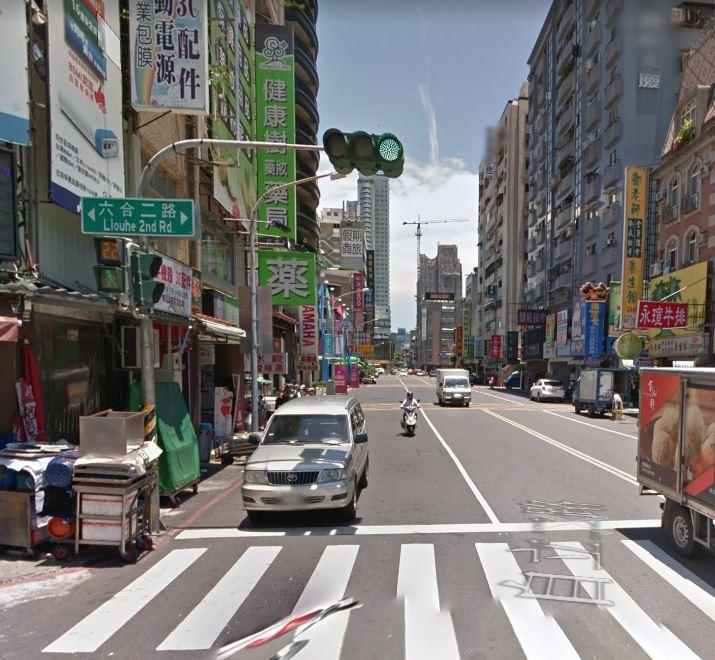car: (234, 392, 375, 524), (430, 362, 479, 407), (527, 369, 562, 407)
green_traffic_light: (321, 125, 407, 179)
motorcycle: (399, 396, 419, 437)
truck: (634, 361, 715, 566), (560, 366, 615, 415)
